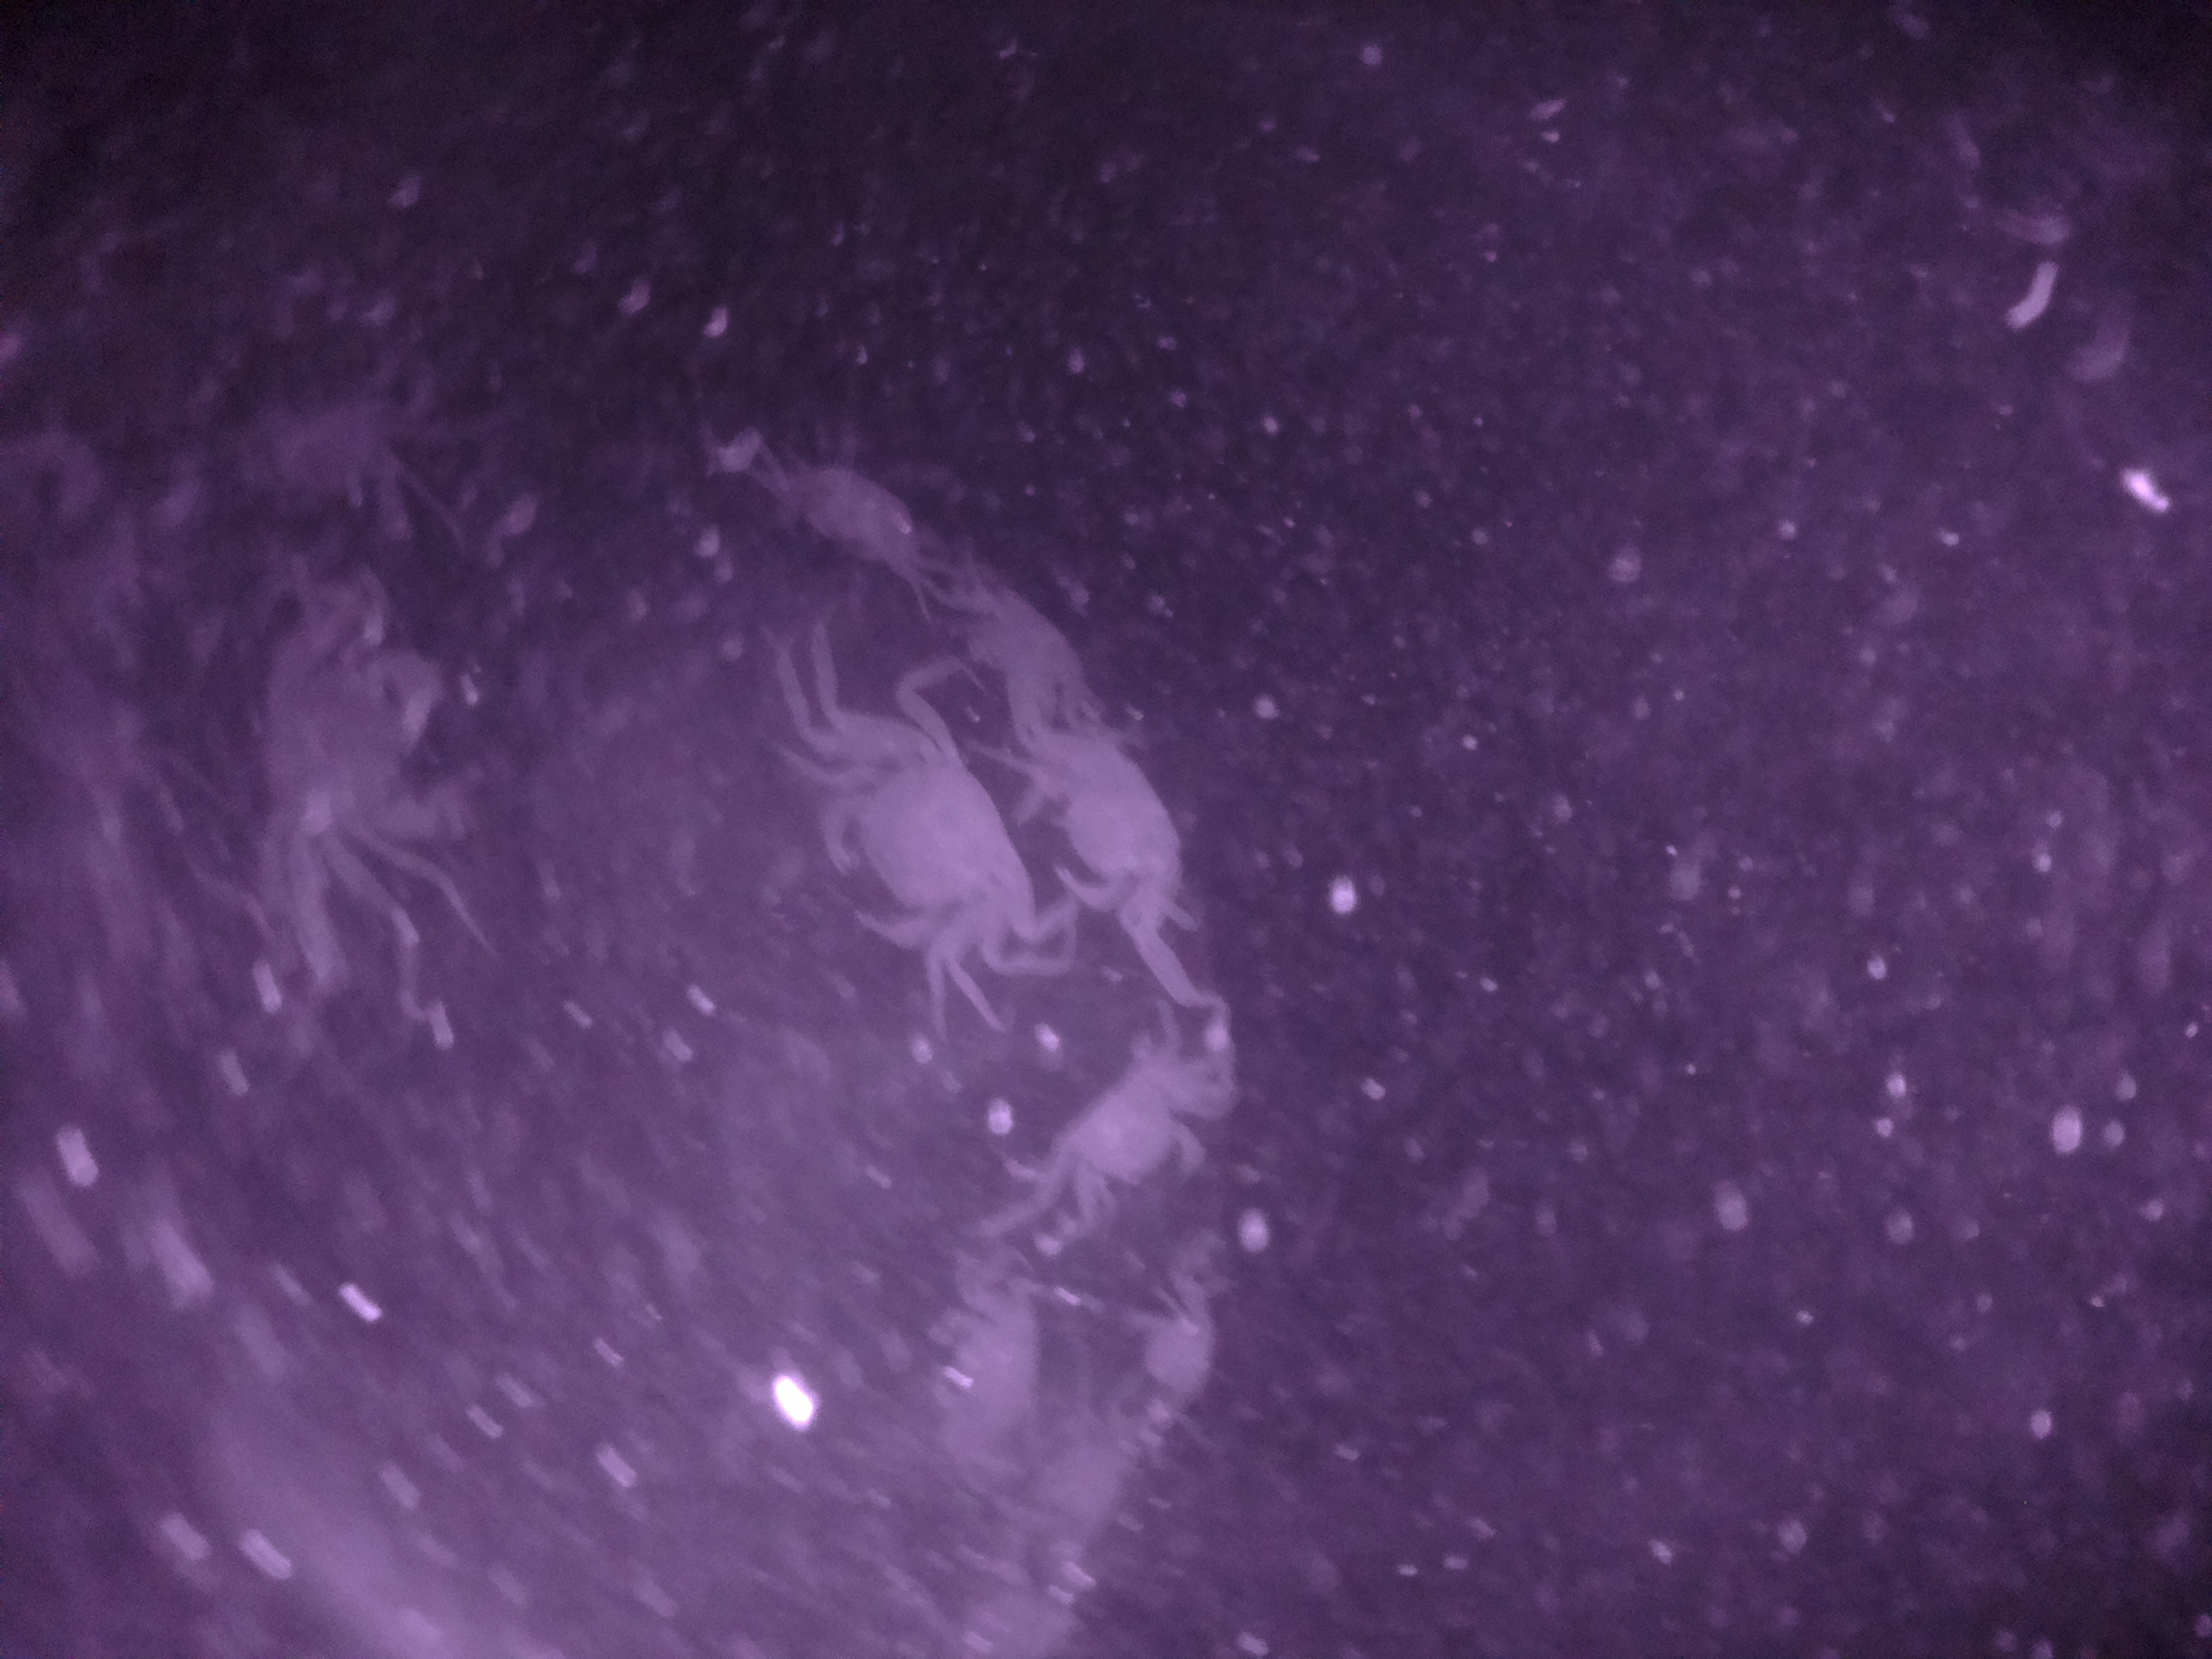Crab: (784, 685, 1047, 1012), (1007, 702, 1202, 958)
